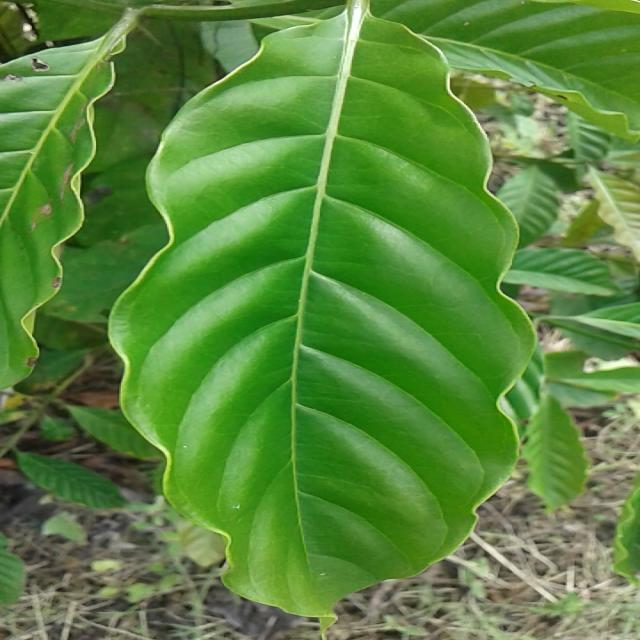Sanas: (105, 0, 585, 624)
